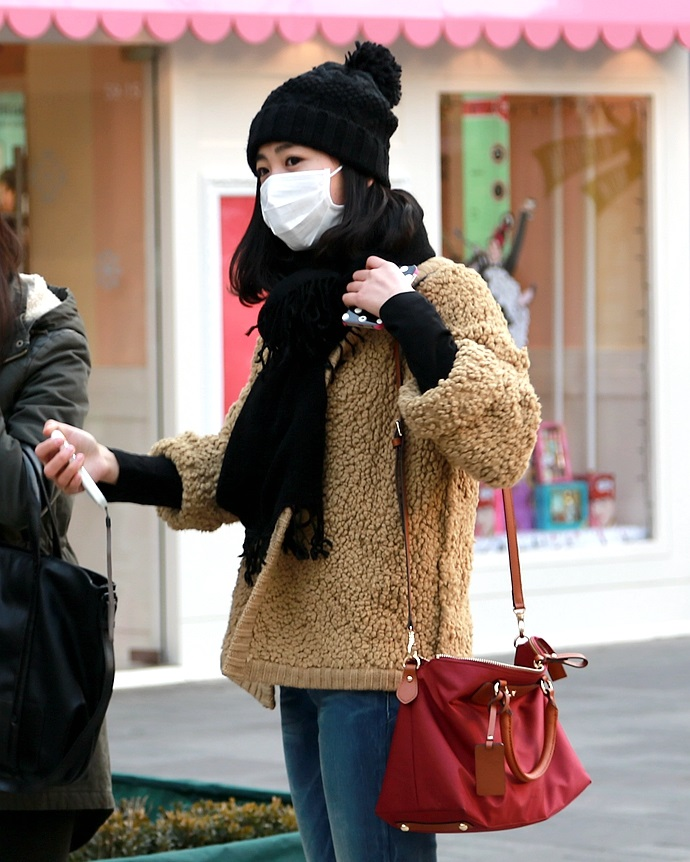face_mask: (254, 119, 341, 254)
